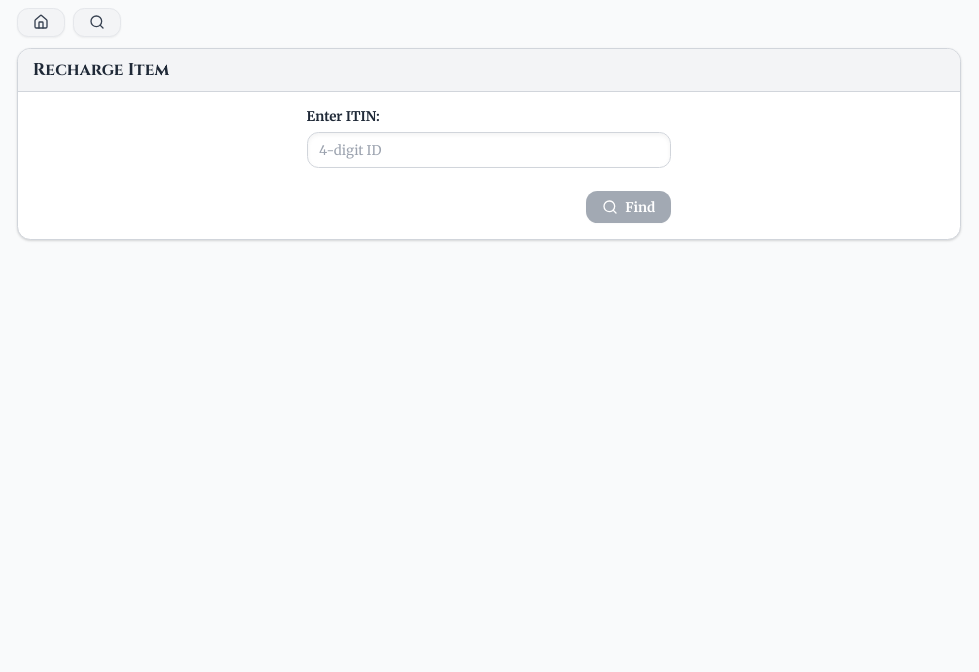
Test: RechargeItem Page › validates invalid expiry date (format)
Type "1234" into the field with placeholder "4-digit ID" at (489, 150), box [307, 132, 671, 168]
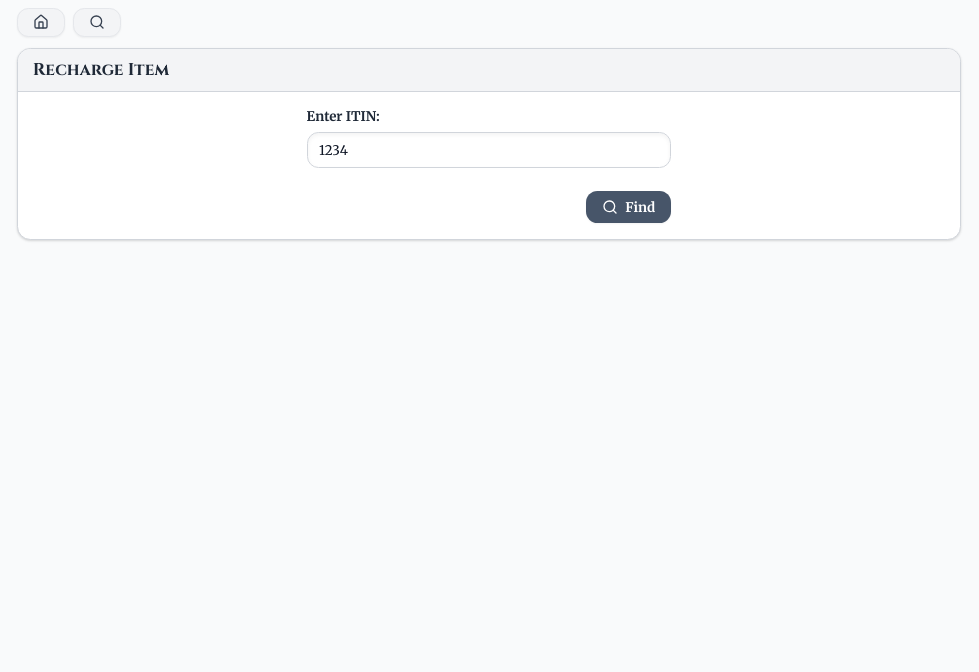
Click the button "Find" at (628, 207), box [586, 191, 671, 223]
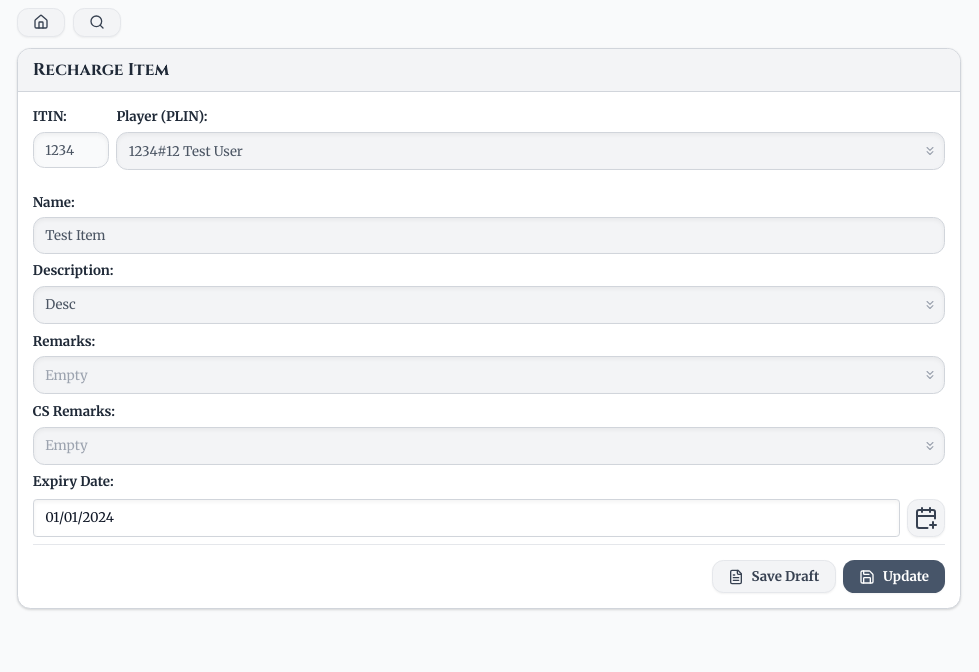
Expected: the field showing "Test Item" below "Name" is shown, [33, 218, 945, 254]
Replace the text in the 3rd field showing "01/01/2024" with "invalid" at (466, 518), box [33, 499, 900, 537]
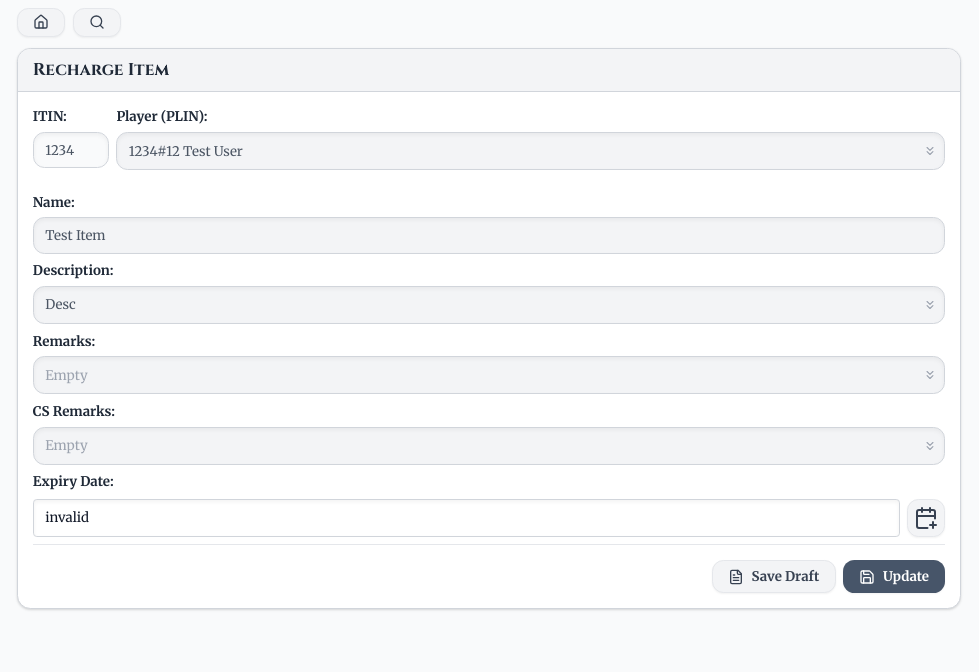
Click the button "Update" at (894, 577), box [843, 560, 945, 593]
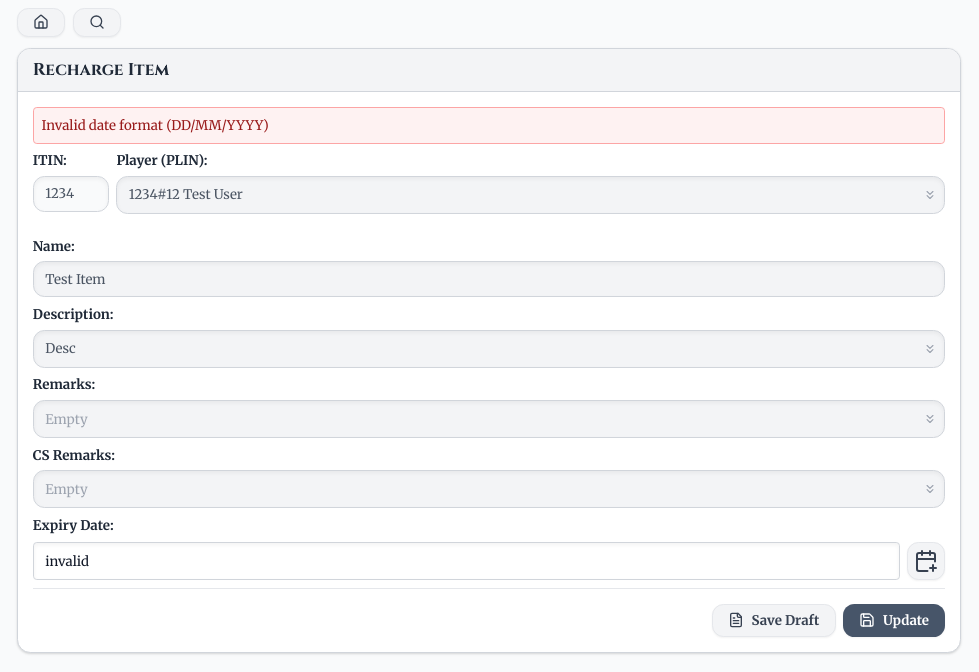
Expected: the text "Invalid date format (DD/MM/YYYY)" is shown, [33, 107, 945, 144]
